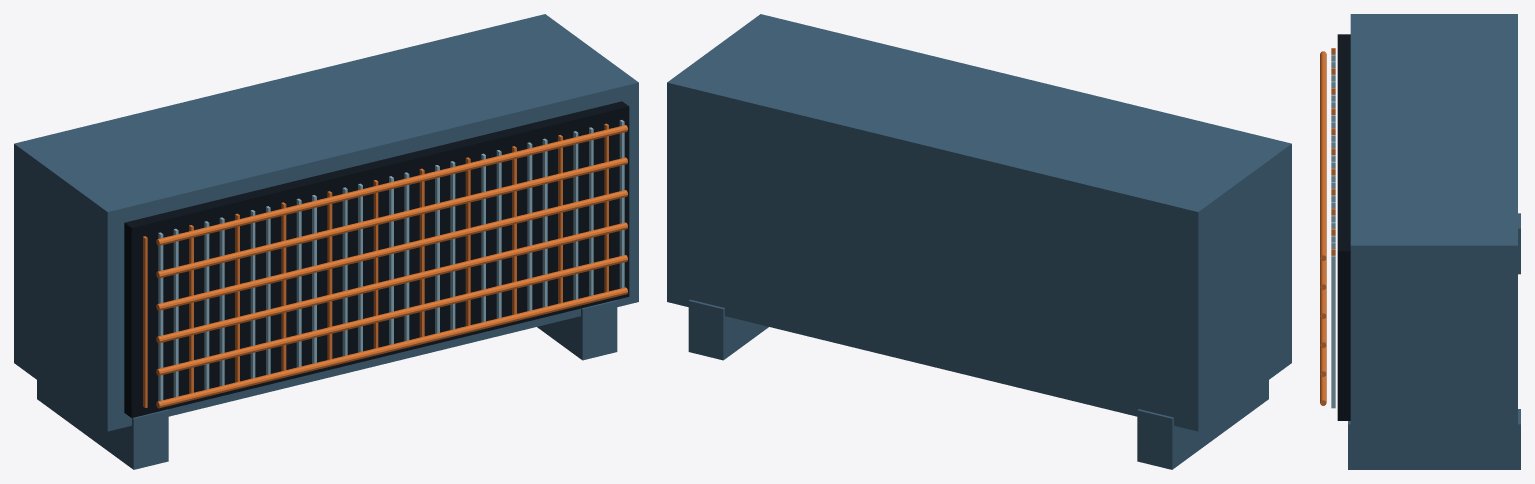
Rendered from 04_L69_AirCooledCondenser.fbx.
The picture shows the model from 3 angles, left to right: view 1: azimuth 30°, elevation 25°; view 2: azimuth 150°, elevation 25°; view 3: azimuth 270°, elevation 25°; orthographic projection. The views are drawn at different scales.
Visible parts, largest first — view 1: AirCooledCondenser; view 2: AirCooledCondenser; view 3: AirCooledCondenser.
Boxes of the visible parts, x1=… form: AirCooledCondenser: x1=14, y1=14, x2=638, y2=469; AirCooledCondenser: x1=667, y1=14, x2=1291, y2=469; AirCooledCondenser: x1=1320, y1=14, x2=1520, y2=469.
Size of the model in its own units: 380 by 180 by 139.
